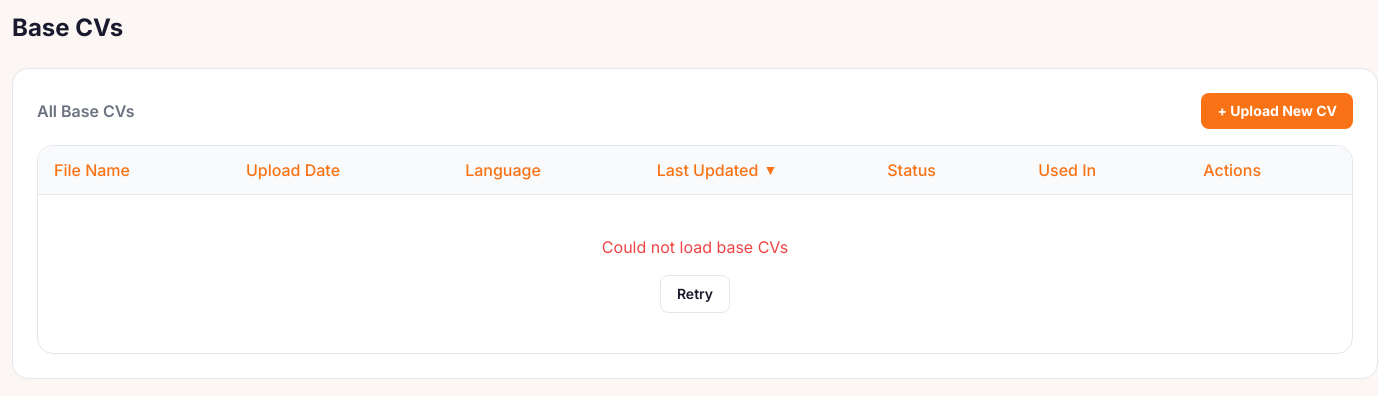
CVCenterContent › passes error state to BaseCVsTable and retries GET /users/me/cv
This screenshot has width=1378, height=396.
Expected: the text "Could not load base CVs" is shown, left=602, top=235, right=788, bottom=259
Click the button "Retry": coordinates (695, 294) left=660, top=275, right=730, bottom=313
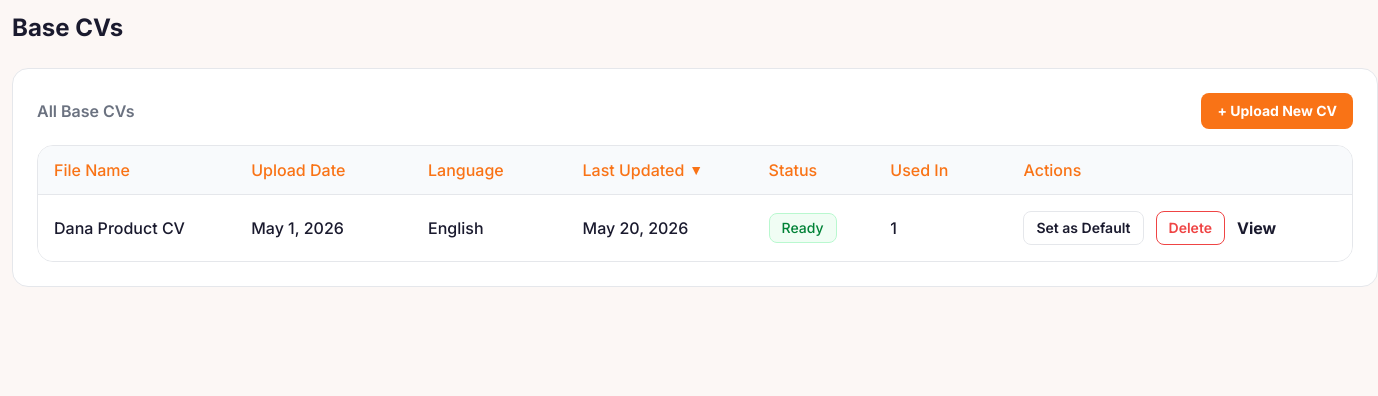
Result: the text "Dana Product CV" is shown at left=54, top=218, right=185, bottom=238
